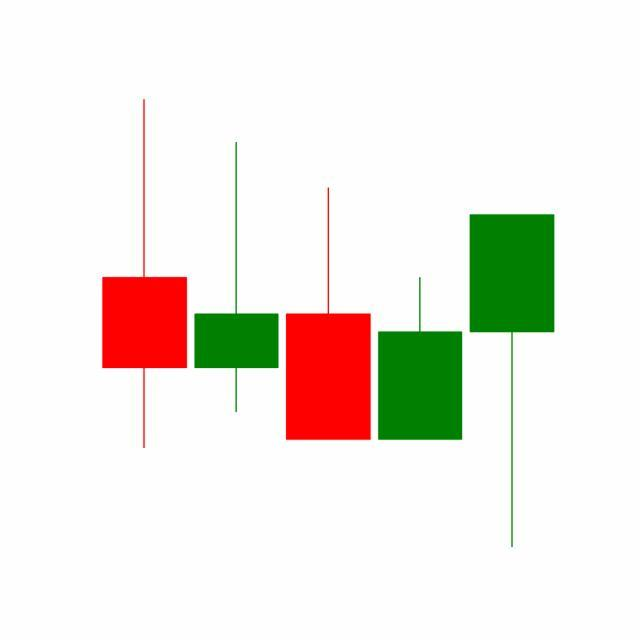Hammer: (466, 212, 559, 552)
